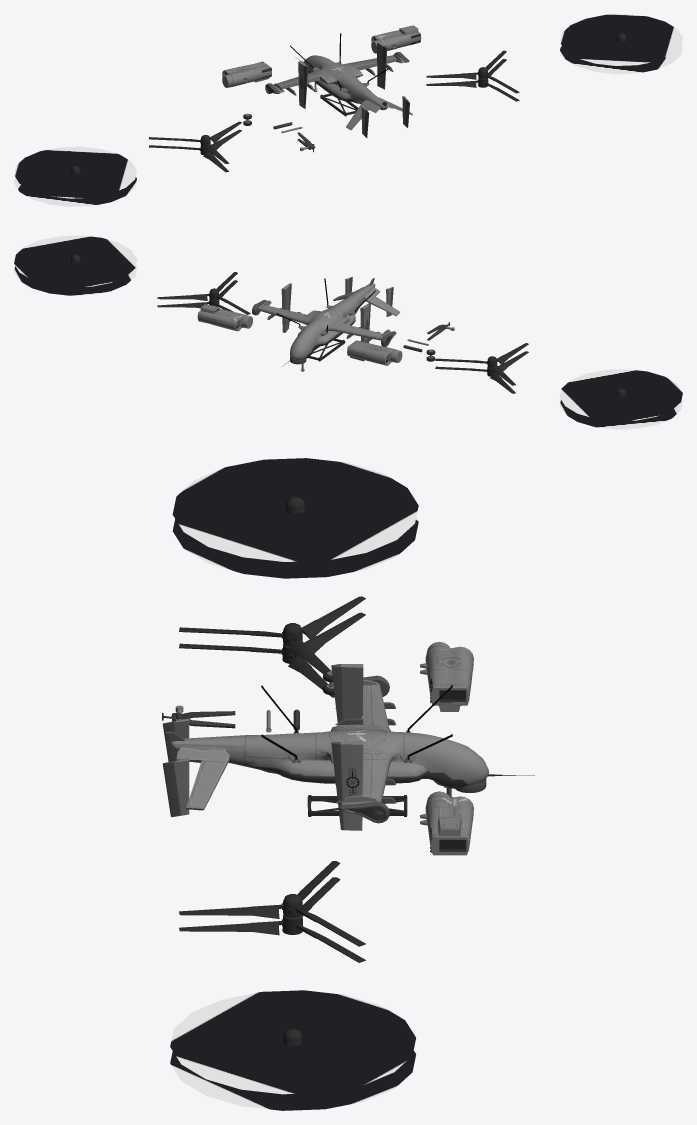
The model's file is largehelicopter.fbx.
3 views of the same model, one above another, from view 1: azimuth 30°, elevation 25°; view 2: azimuth 150°, elevation 25°; view 3: azimuth 270°, elevation 25° (orthographic). The views are drawn at different scales.
Visible parts, largest first — view 1: largehelicopter_propellerplane_midspin, largehelicopter_propellerplane_midspin_r, largehelicopter_base, largehelicopter_propellerplane_midspin_bottom, largehelicopter_propellerplane_midspin_bottom_r, largehelicopter_engine_left, largehelicopter_engine_right, largehelicopter_rotor_blades_top_right001, largehelicopter_rotor_blades_top_right, largehelicopter_rotor_blades_right, largehelicopter_rotor_blades_right001, largehelicopter_frontwing_right (+1 smaller); view 2: largehelicopter_propellerplane_midspin, largehelicopter_propellerplane_midspin_r, largehelicopter_base, largehelicopter_propellerplane_midspin_bottom, largehelicopter_propellerplane_midspin_bottom_r, largehelicopter_engine_right, largehelicopter_engine_left, largehelicopter_rotor_blades_top_right001, largehelicopter_rotor_blades_top_right, largehelicopter_rotor_blades_right001, largehelicopter_rotor_blades_right, largehelicopter_frontwing_right; view 3: largehelicopter_propellerplane_midspin, largehelicopter_propellerplane_midspin_r, largehelicopter_base, largehelicopter_propellerplane_midspin_bottom_r, largehelicopter_propellerplane_midspin_bottom, largehelicopter_engine_left, largehelicopter_engine_right, largehelicopter_rotor_blades_top_right, largehelicopter_rotor_blades_top_right001, largehelicopter_frontwing_right, largehelicopter_rotor_blades_right, largehelicopter_rotor_blades_right001 (+2 smaller).
Part boxes in pixels (x1,y1,x2,y2): largehelicopter_propellerplane_midspin: [560, 14, 682, 65]; largehelicopter_propellerplane_midspin_r: [14, 146, 136, 198]; largehelicopter_base: [265, 52, 412, 130]; largehelicopter_propellerplane_midspin_bottom: [560, 44, 682, 74]; largehelicopter_propellerplane_midspin_bottom_r: [14, 177, 136, 206]; largehelicopter_engine_left: [222, 61, 271, 87]; largehelicopter_engine_right: [371, 25, 421, 53]; largehelicopter_rotor_blades_top_right001: [149, 121, 241, 163]; largehelicopter_rotor_blades_top_right: [426, 50, 519, 93]; largehelicopter_rotor_blades_right: [426, 59, 519, 101]; largehelicopter_rotor_blades_right001: [149, 129, 241, 172]; largehelicopter_frontwing_right: [377, 41, 387, 89]; largehelicopter_propellerplane_midspin: [14, 235, 137, 287]; largehelicopter_propellerplane_midspin_r: [559, 369, 682, 421]; largehelicopter_base: [252, 278, 399, 366]; largehelicopter_propellerplane_midspin_bottom: [14, 266, 137, 295]; largehelicopter_propellerplane_midspin_bottom_r: [559, 399, 682, 429]; largehelicopter_engine_right: [197, 304, 252, 331]; largehelicopter_engine_left: [347, 340, 402, 365]; largehelicopter_rotor_blades_top_right001: [435, 343, 528, 385]; largehelicopter_rotor_blades_top_right: [157, 272, 250, 314]; largehelicopter_rotor_blades_right001: [435, 351, 528, 393]; largehelicopter_rotor_blades_right: [157, 280, 237, 311]; largehelicopter_frontwing_right: [281, 283, 291, 332]; largehelicopter_propellerplane_midspin: [170, 990, 415, 1094]; largehelicopter_propellerplane_midspin_r: [172, 458, 418, 561]; largehelicopter_base: [166, 675, 534, 823]; largehelicopter_propellerplane_midspin_bottom_r: [172, 518, 418, 578]; largehelicopter_propellerplane_midspin_bottom: [170, 1050, 416, 1110]; largehelicopter_engine_left: [420, 641, 473, 711]; largehelicopter_engine_right: [420, 791, 473, 855]; largehelicopter_rotor_blades_top_right: [179, 861, 365, 946]; largehelicopter_rotor_blades_top_right001: [179, 596, 365, 673]; largehelicopter_frontwing_right: [331, 740, 363, 830]; largehelicopter_rotor_blades_right: [179, 877, 365, 962]; largehelicopter_rotor_blades_right001: [179, 612, 365, 697].
Size of the model in its own units: 3405 by 280 by 843.
4 materials, 4 textured.
